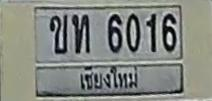0: (126, 13, 140, 52)
1: (146, 13, 156, 52)
6: (107, 13, 122, 52), (162, 13, 176, 52)
A02: (49, 14, 67, 53)
A23: (72, 14, 90, 52)
CMI: (73, 64, 145, 91)
